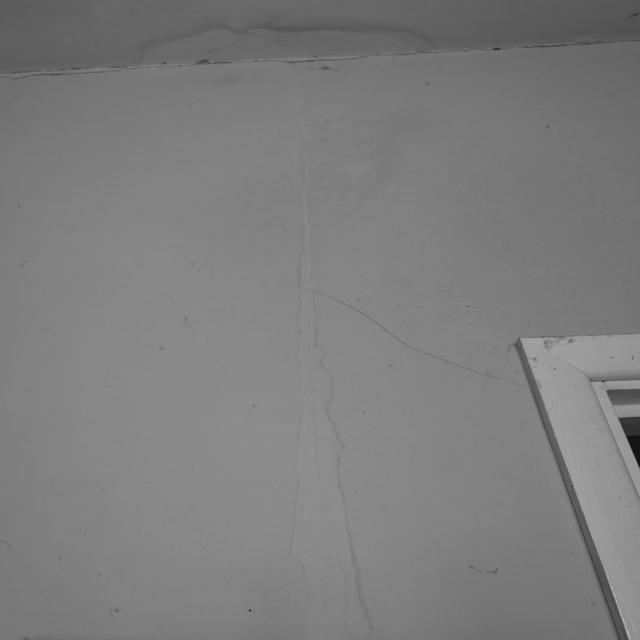pin holes: (103, 602, 135, 624), (236, 601, 264, 623)
stain marks: (138, 65, 474, 226), (105, 1, 489, 76), (141, 249, 280, 432), (375, 276, 500, 328), (7, 224, 53, 284), (442, 560, 521, 590)
